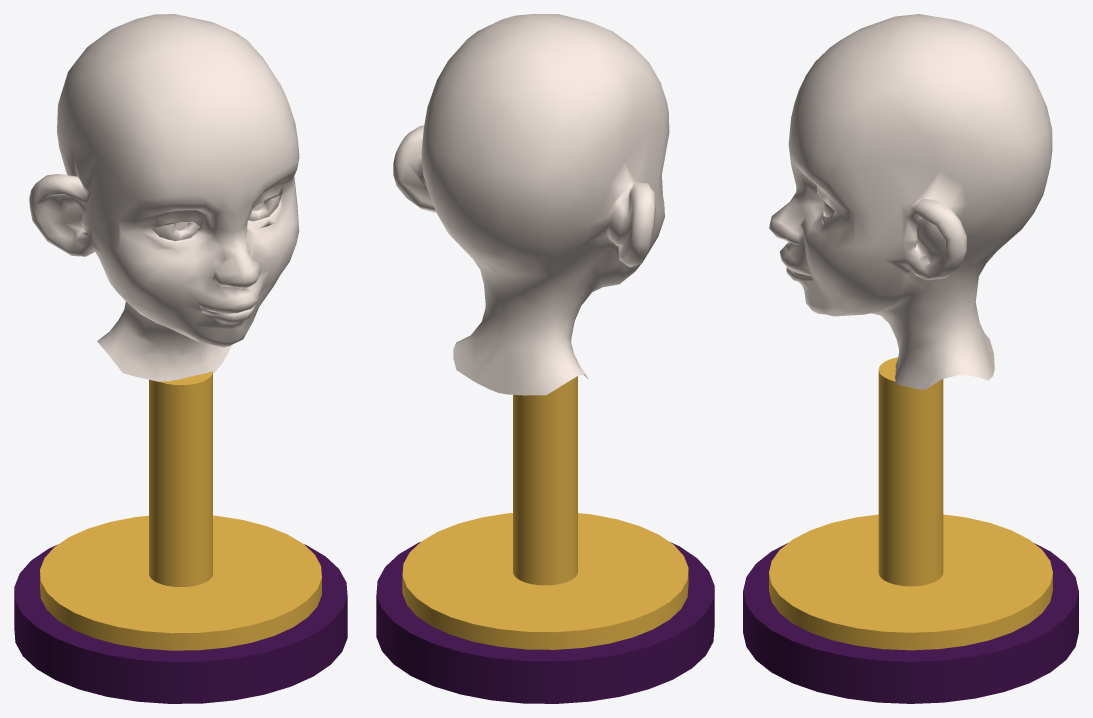
Rendered from wig-head.glb.
3 views of the same model, side by side, from view 1: azimuth 30°, elevation 25°; view 2: azimuth 150°, elevation 25°; view 3: azimuth 270°, elevation 25° (orthographic).
Parts seen in each view (by area): view 1: GEO-rain-head, stand_bead, stand_base, stem, GEO-rain-eyes; view 2: GEO-rain-head, stand_bead, stand_base, stem; view 3: GEO-rain-head, stand_bead, stand_base, stem.
Part boxes in pixels (bbox=[...]): GEO-rain-head: bbox=[29, 14, 299, 381]; stand_bead: bbox=[40, 515, 321, 650]; stand_base: bbox=[14, 544, 347, 703]; stem: bbox=[149, 371, 212, 586]; GEO-rain-eyes: bbox=[152, 195, 279, 240]; GEO-rain-head: bbox=[393, 14, 669, 395]; stand_bead: bbox=[402, 513, 688, 649]; stand_base: bbox=[376, 542, 714, 703]; stem: bbox=[513, 376, 577, 585]; GEO-rain-head: bbox=[769, 14, 1052, 389]; stand_bead: bbox=[769, 514, 1052, 650]; stand_base: bbox=[743, 543, 1078, 703]; stem: bbox=[878, 357, 943, 586].
Size of the model in its own units: 0.26 by 0.5171 by 0.26.
